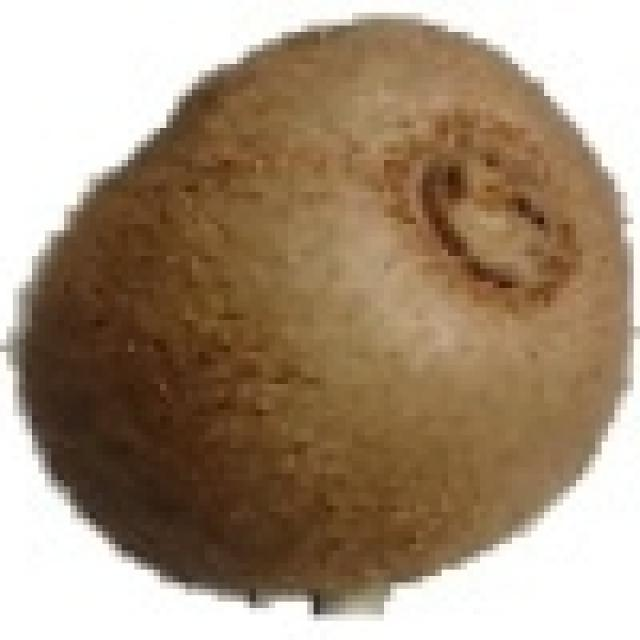kiwi: (26, 13, 640, 602)
